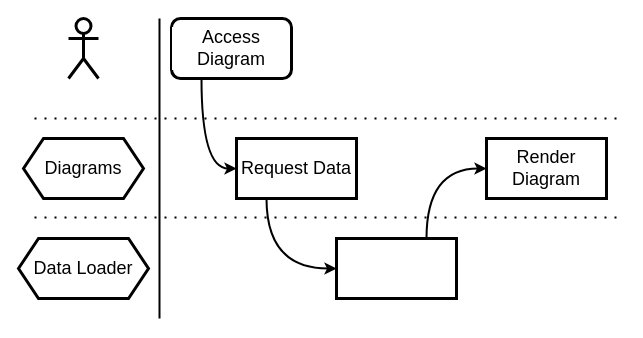
This 643x338 diagram has some shape labels left out. Each missing label, with the centre of its shape:
"Load Data" belongs at (396,268).
"User" belongs at (83,48).
